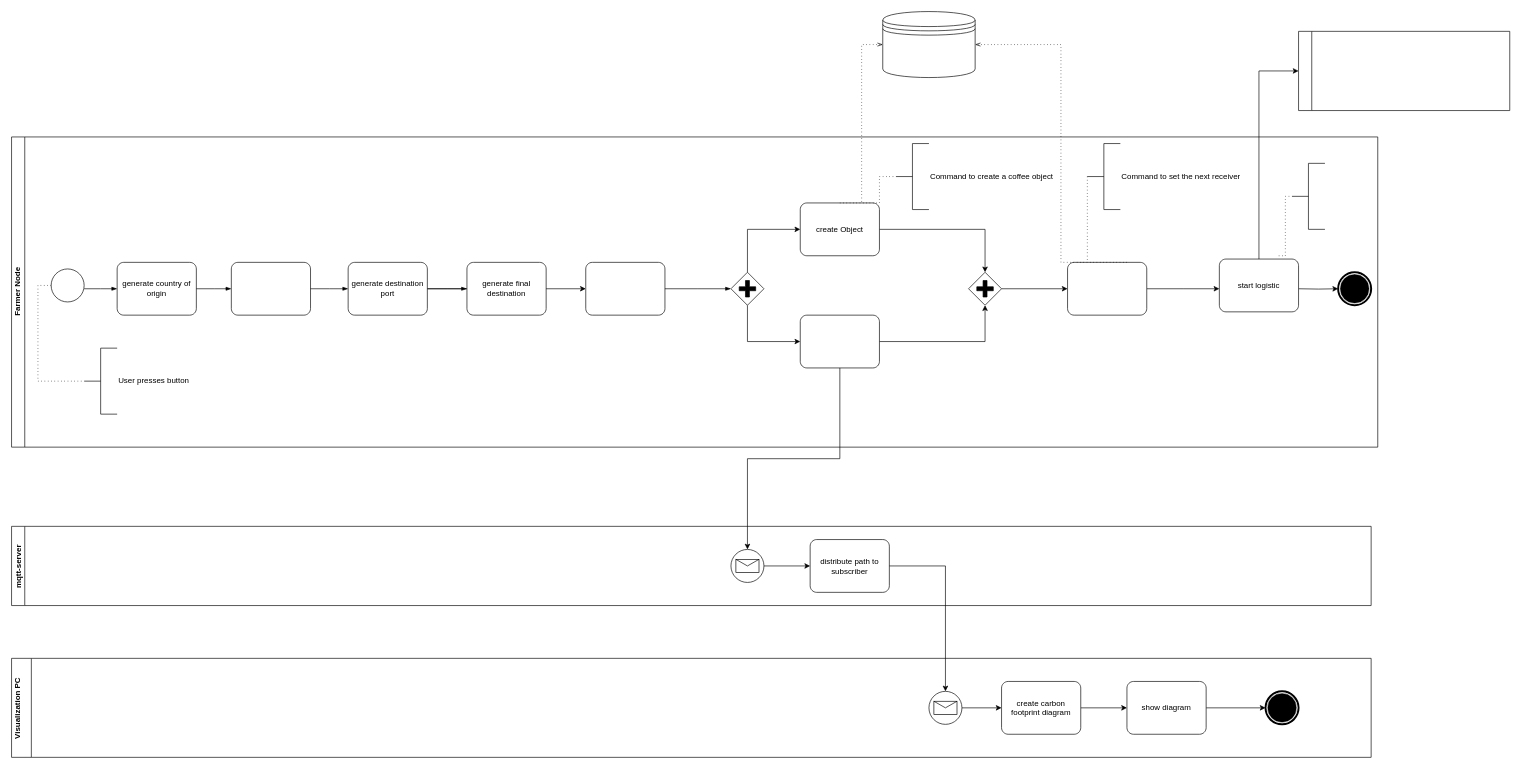
Image size: 1521x769. Some labels were removed from this diagram. Each missing label, with the centre of its shape:
create Path: (625,288)
generate transport port: (271,288)
Hyperledger minifabric blockchain: (928,44)
logistics: (1404,71)
publish Path: (839,341)
Sends start signal for logistic: (1308,196)
set receiver to logistics: (1107,288)
